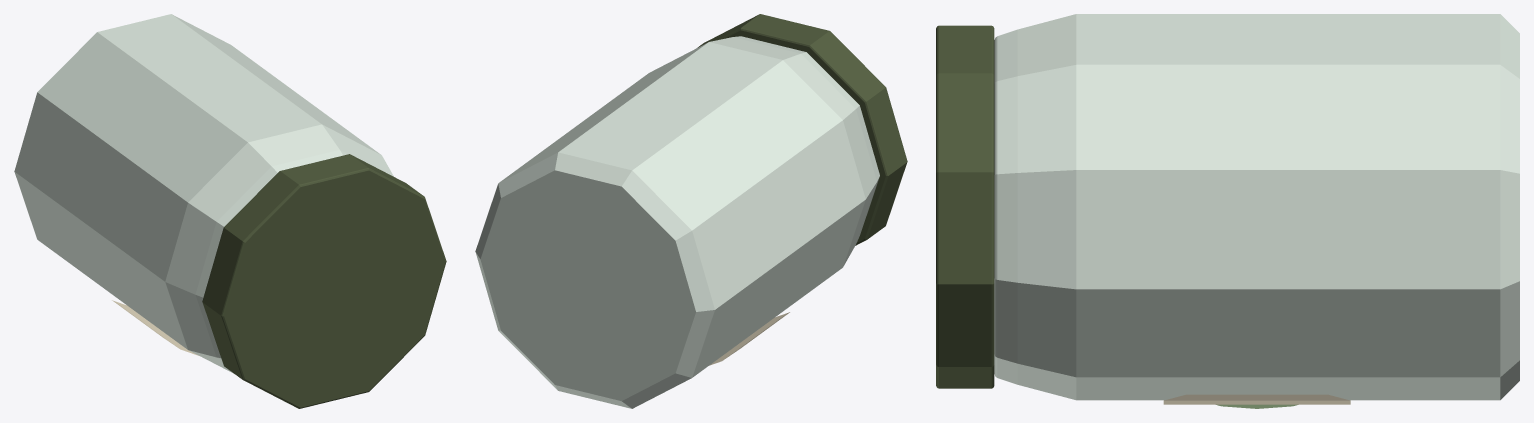
Rendered from pesto.glb.
The picture shows the model from 3 angles, left to right: view 1: azimuth 30°, elevation 25°; view 2: azimuth 150°, elevation 25°; view 3: azimuth 270°, elevation 25°; orthographic projection. The views are drawn at different scales.
Visible parts, largest first — view 1: pesto; view 2: pesto; view 3: pesto.
Boxes of the visible parts, x1,y1,x2,y2 form: pesto: [14, 14, 446, 408]; pesto: [475, 14, 907, 408]; pesto: [936, 14, 1519, 408].
Bounding box in the file's own units: 0.06 × 0.0603 × 0.09.
